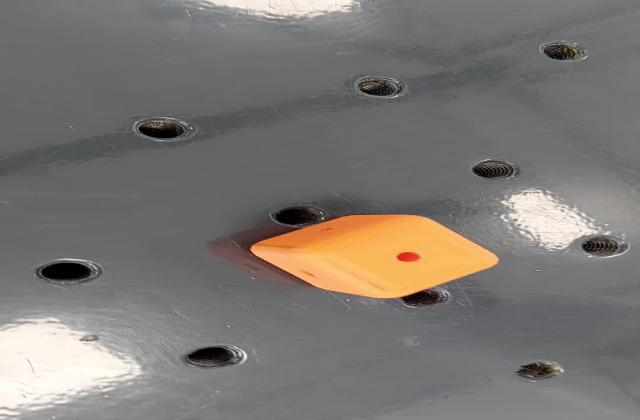cube: (235, 210, 506, 302)
